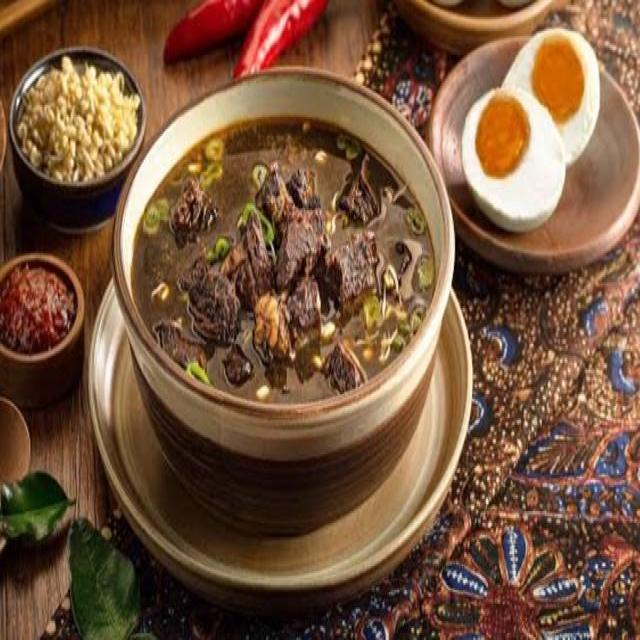Rawon: (131, 111, 418, 400)
